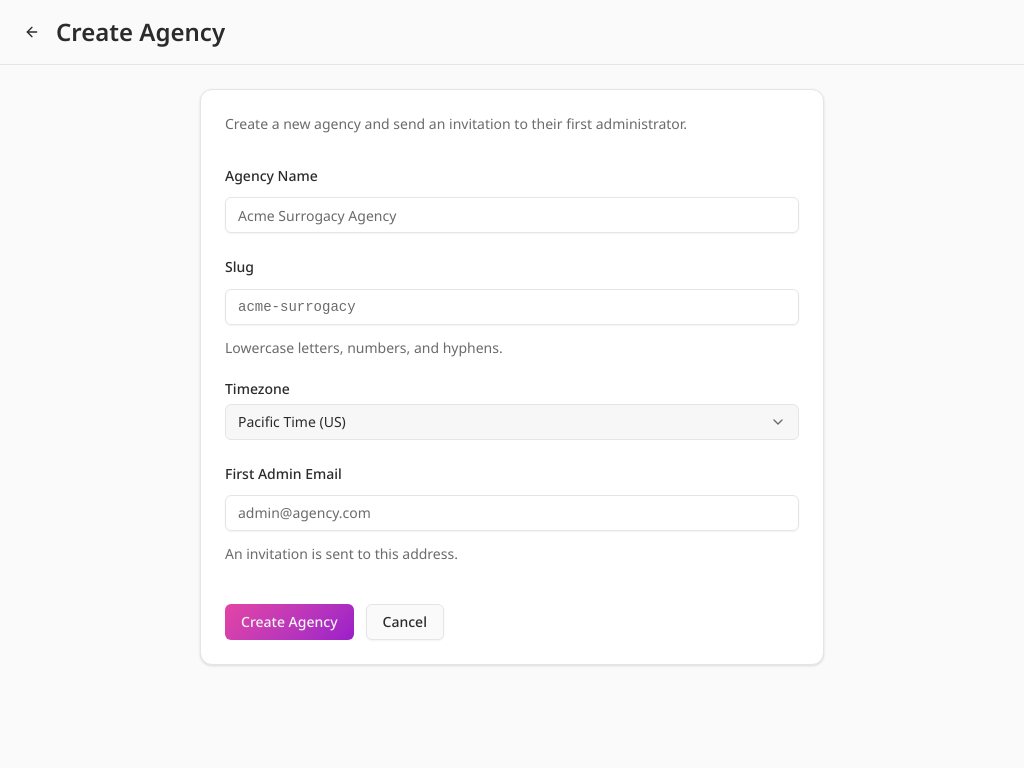
NewAgencyPage validation › marks invalid fields on submit, focuses the first one and clears errors as fields are fixed
The image size is (1024, 768).
Click the button "Create Agency" at (289, 622), box [225,604,354,640]
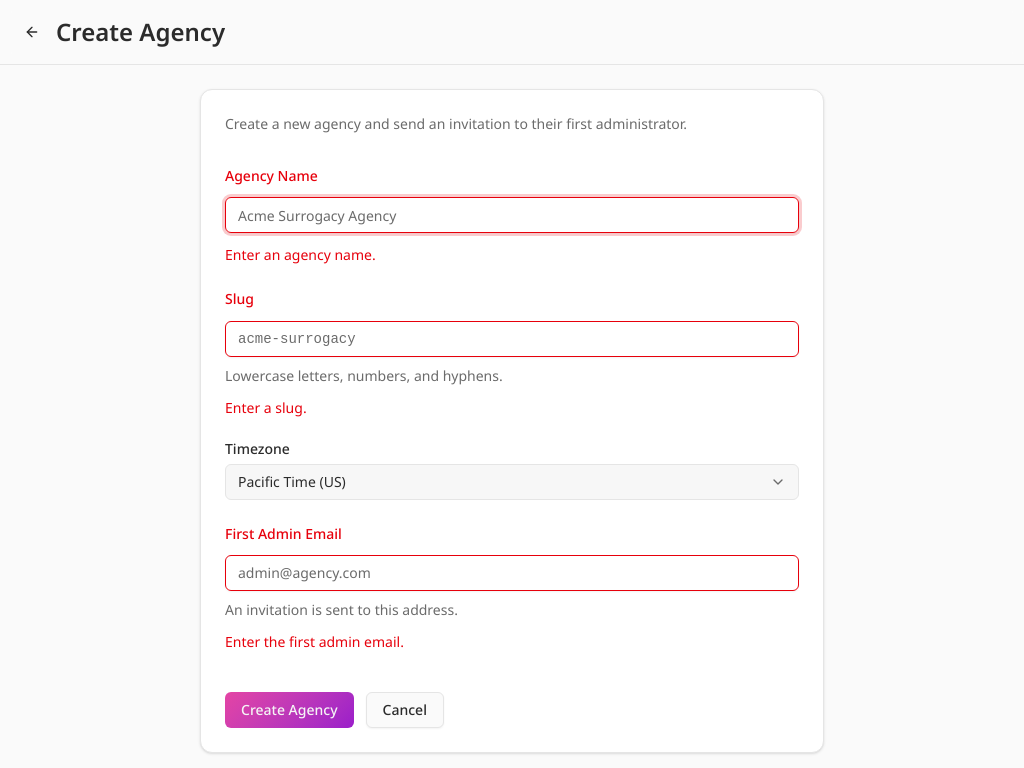
Now the text "Enter an agency name." is shown, box [225,245,376,264]
Now the text "Enter a slug." is shown, box [225,398,307,416]
Now the text "Enter the first admin email." is shown, box [225,632,404,651]
Type "QA Ops Agency" into the field labelled "Agency Name" at (512, 215), box [225,197,799,233]
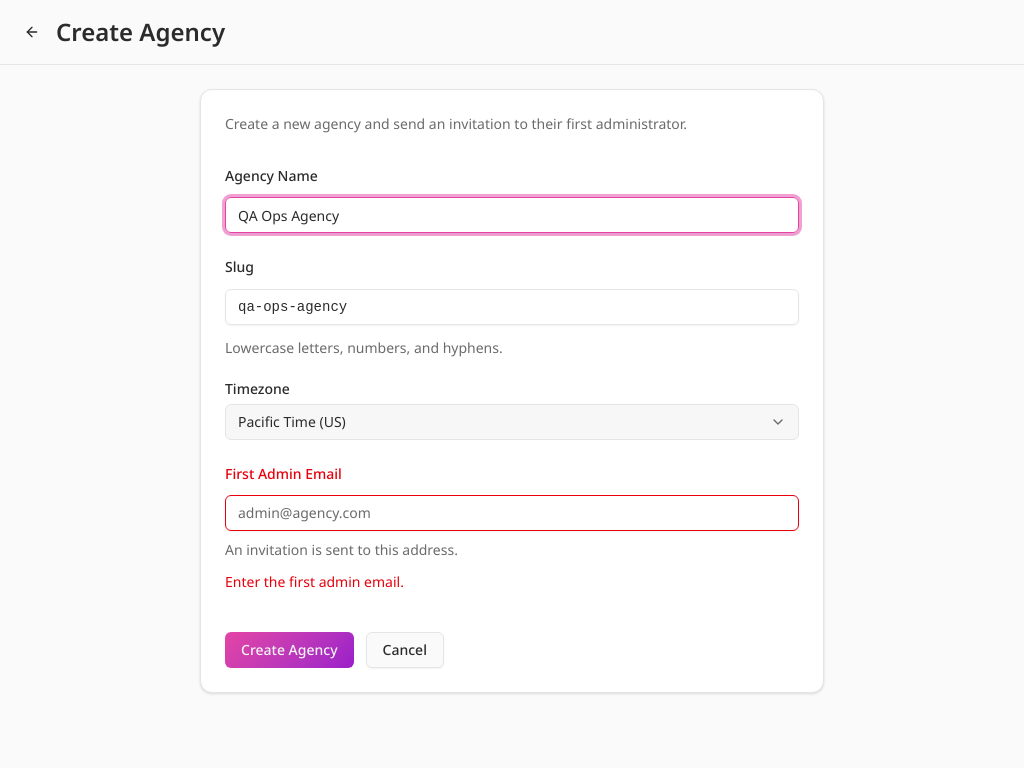
Now the text "Enter an agency name." is gone
Now the text "Enter a slug." is gone
Now the field labelled "Slug" holds "qa-ops-agency", box [225,288,799,324]
Type "not-an-email" into the field labelled "First Admin Email" at (512, 513), box [225,495,799,531]
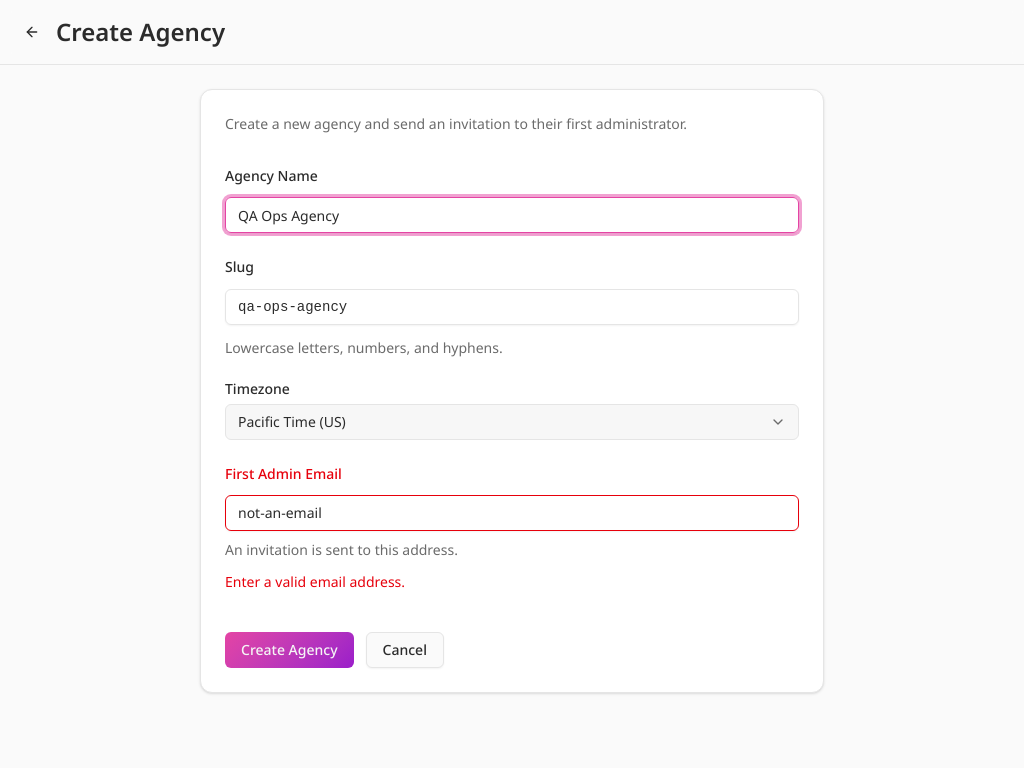
Now the text "Enter a valid email address." is shown, box [225,572,405,591]
Replace the text in the field labelled "First Admin Email" with "admin@example.com" at (512, 513), box [225,495,799,531]
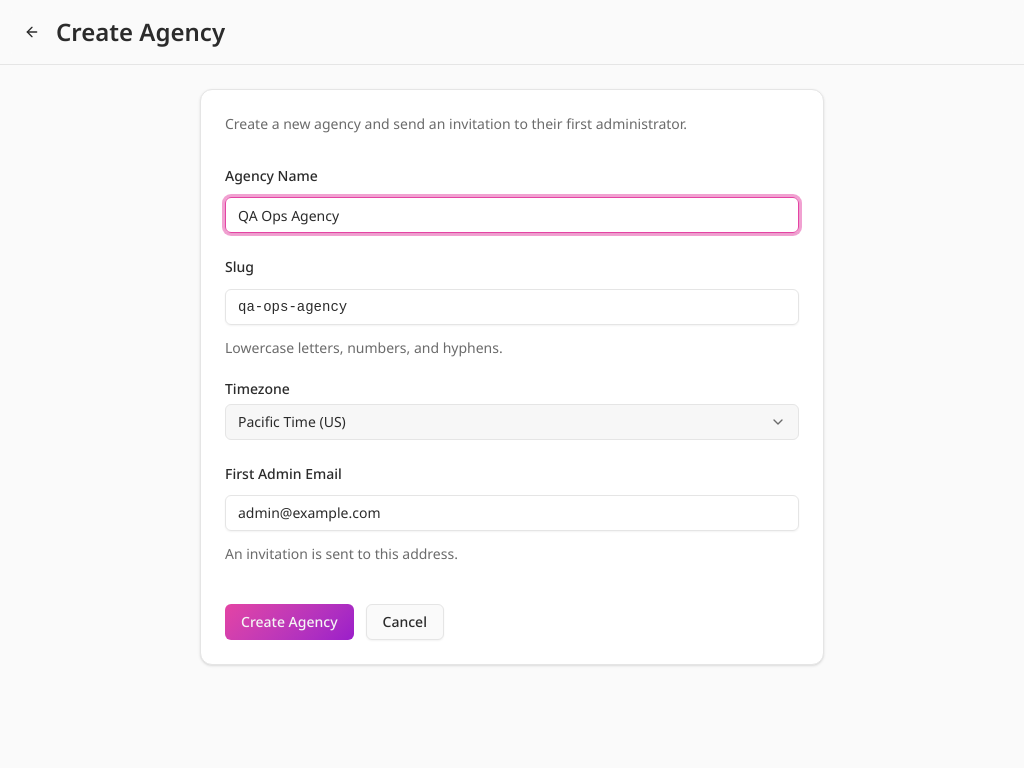
Now the text "Enter a valid email address." is gone
